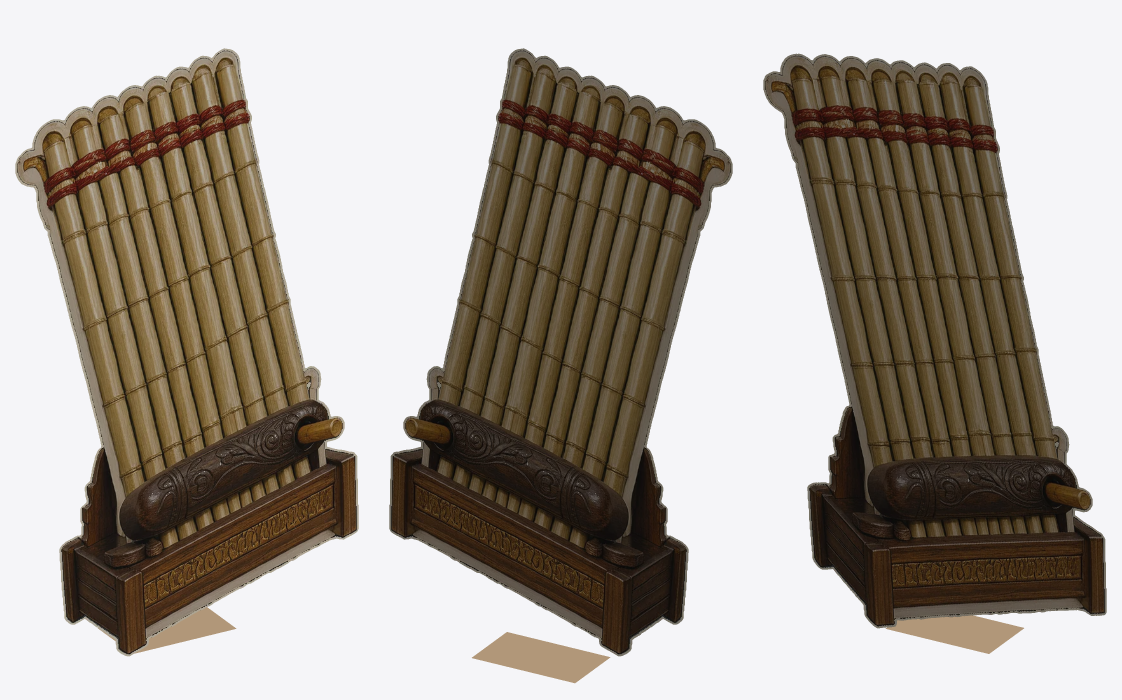
Rendered from toad-standee-khene.glb.
3 renders of one model, left to right at view 1: azimuth 30°, elevation 25°; view 2: azimuth 150°, elevation 25°; view 3: azimuth 330°, elevation 25°, orthographic.
Parts seen in each view (by area): view 1: khene; view 2: khene; view 3: khene.
Part boxes in pixels (bbox=[...]): khene: bbox=[15, 48, 358, 656]; khene: bbox=[389, 48, 732, 683]; khene: bbox=[763, 53, 1106, 653].
Bounding box in the file's own units: 0.185 × 0.3003 × 0.035.
1 material, 1 textured.
